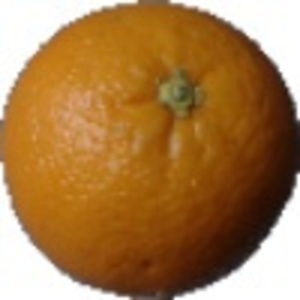laranja: (3, 2, 295, 296)
